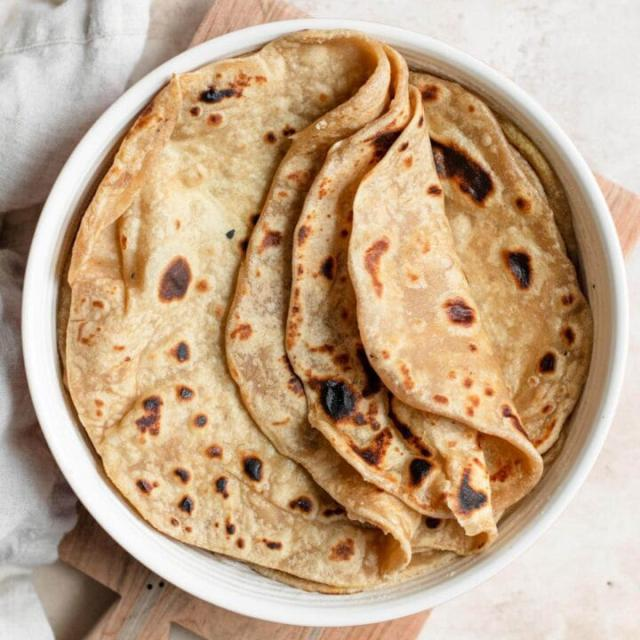chapathi: (50, 20, 608, 606)
